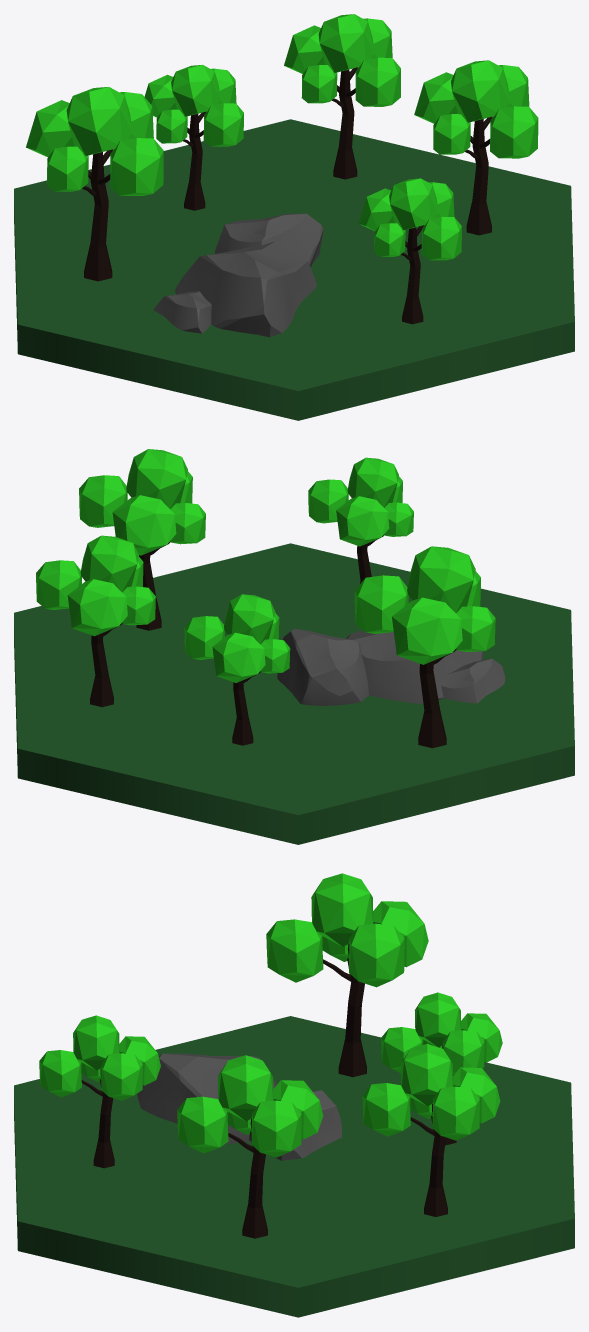
Rendered from Tile_9.FBX.
3 renders of one model, top to bottom at view 1: azimuth 30°, elevation 25°; view 2: azimuth 150°, elevation 25°; view 3: azimuth 270°, elevation 25°, orthographic.
Visible parts, largest first — view 1: Ground; view 2: Ground; view 3: Ground.
Part boxes in pixels (bbox=[...]): Ground: bbox=[14, 14, 574, 420]; Ground: bbox=[14, 449, 574, 844]; Ground: bbox=[14, 873, 574, 1317].
Size of the model in its own units: 38.57 by 17.2 by 33.63.
